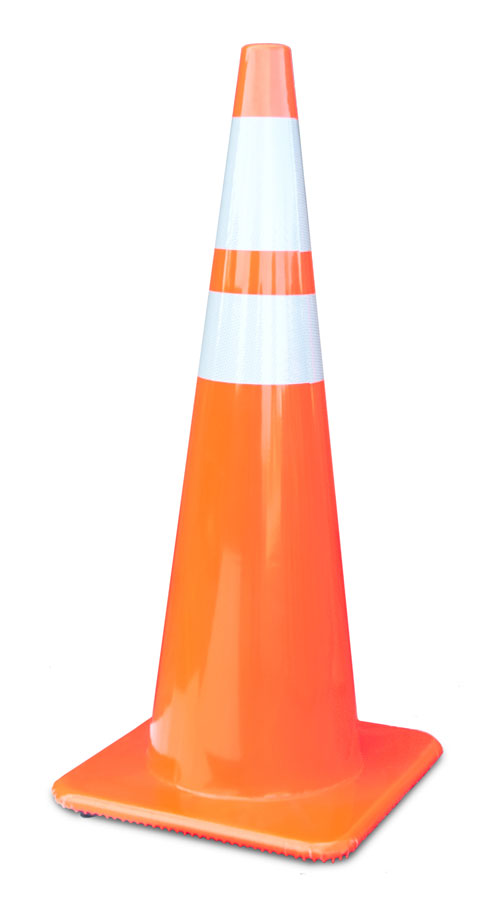cones: (47, 39, 454, 867)
